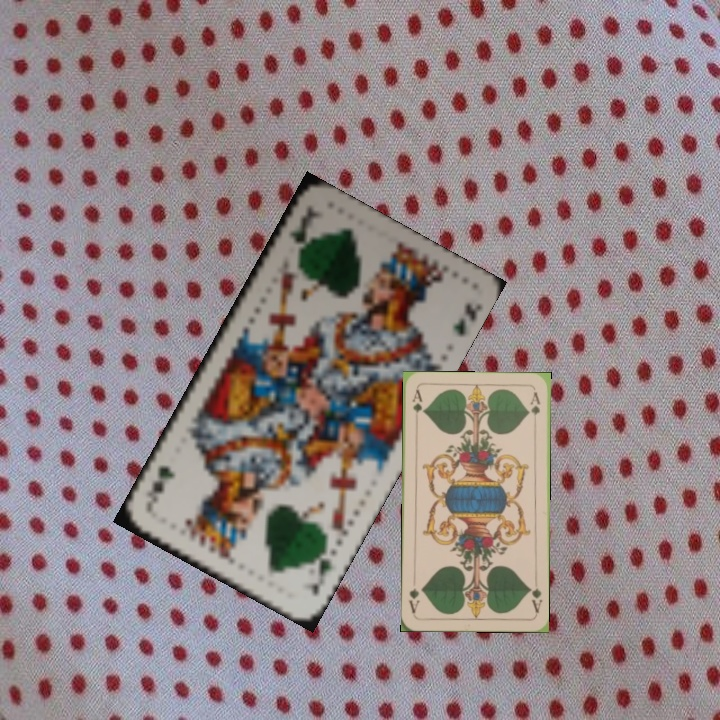GA: (525, 576, 544, 615), (408, 386, 425, 426)
GK: (300, 542, 335, 599), (284, 207, 312, 258)
